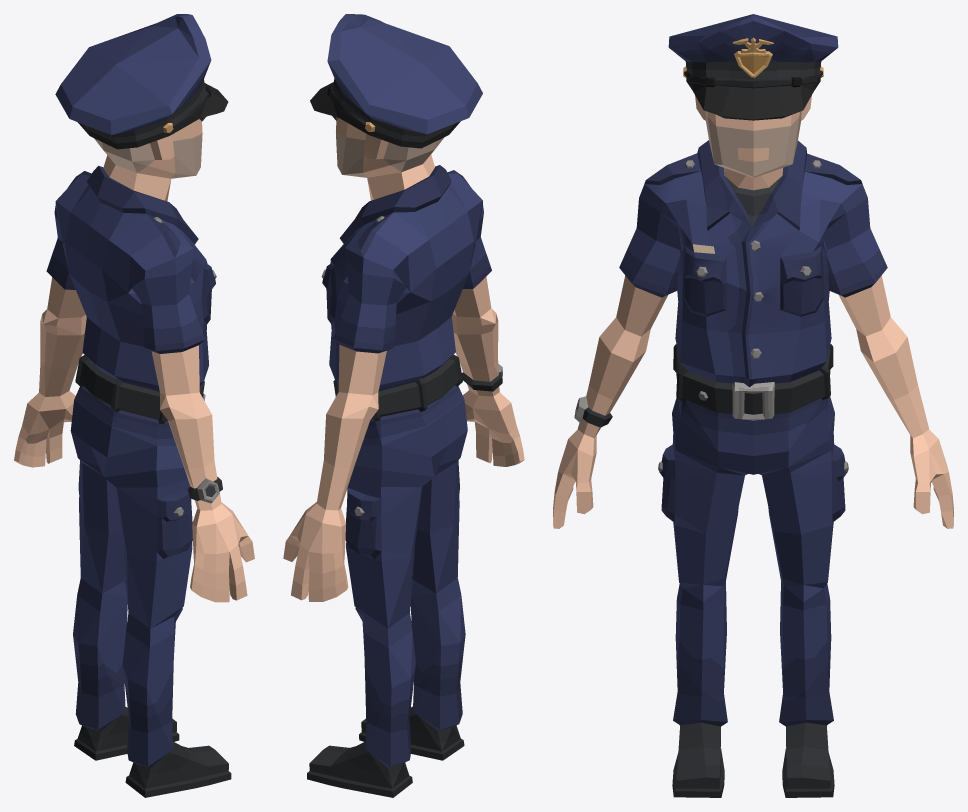
File: handler.glb
3 views of the same model, side by side, from view 1: azimuth 30°, elevation 25°; view 2: azimuth 150°, elevation 25°; view 3: azimuth 270°, elevation 25° (orthographic). The views are drawn at different scales.
Parts seen in each view (by area): view 1: handler; view 2: handler; view 3: handler.
Boxes of the visible parts, bbox=[...] form: handler: bbox=[14, 14, 254, 797]; handler: bbox=[283, 14, 524, 797]; handler: bbox=[553, 14, 953, 797].
Bounding box in the file's own units: 0.3999 × 1.89 × 0.8859.
Materials: 1 (1 with a texture image).
